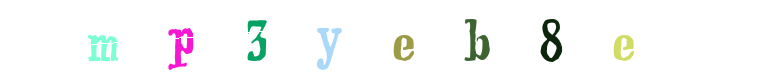3: (218, 0, 298, 80)
8: (511, 0, 591, 80)
B: (445, 0, 525, 80)
E: (390, 0, 470, 80), (553, 0, 633, 80)
M: (141, 0, 221, 80)
P: (183, 0, 263, 80)
Y: (346, 0, 426, 80)
